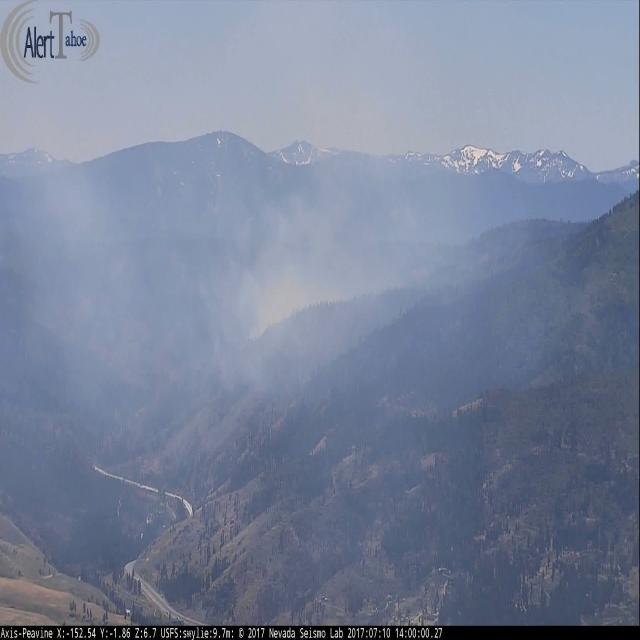smoke: (204, 207, 476, 390)
